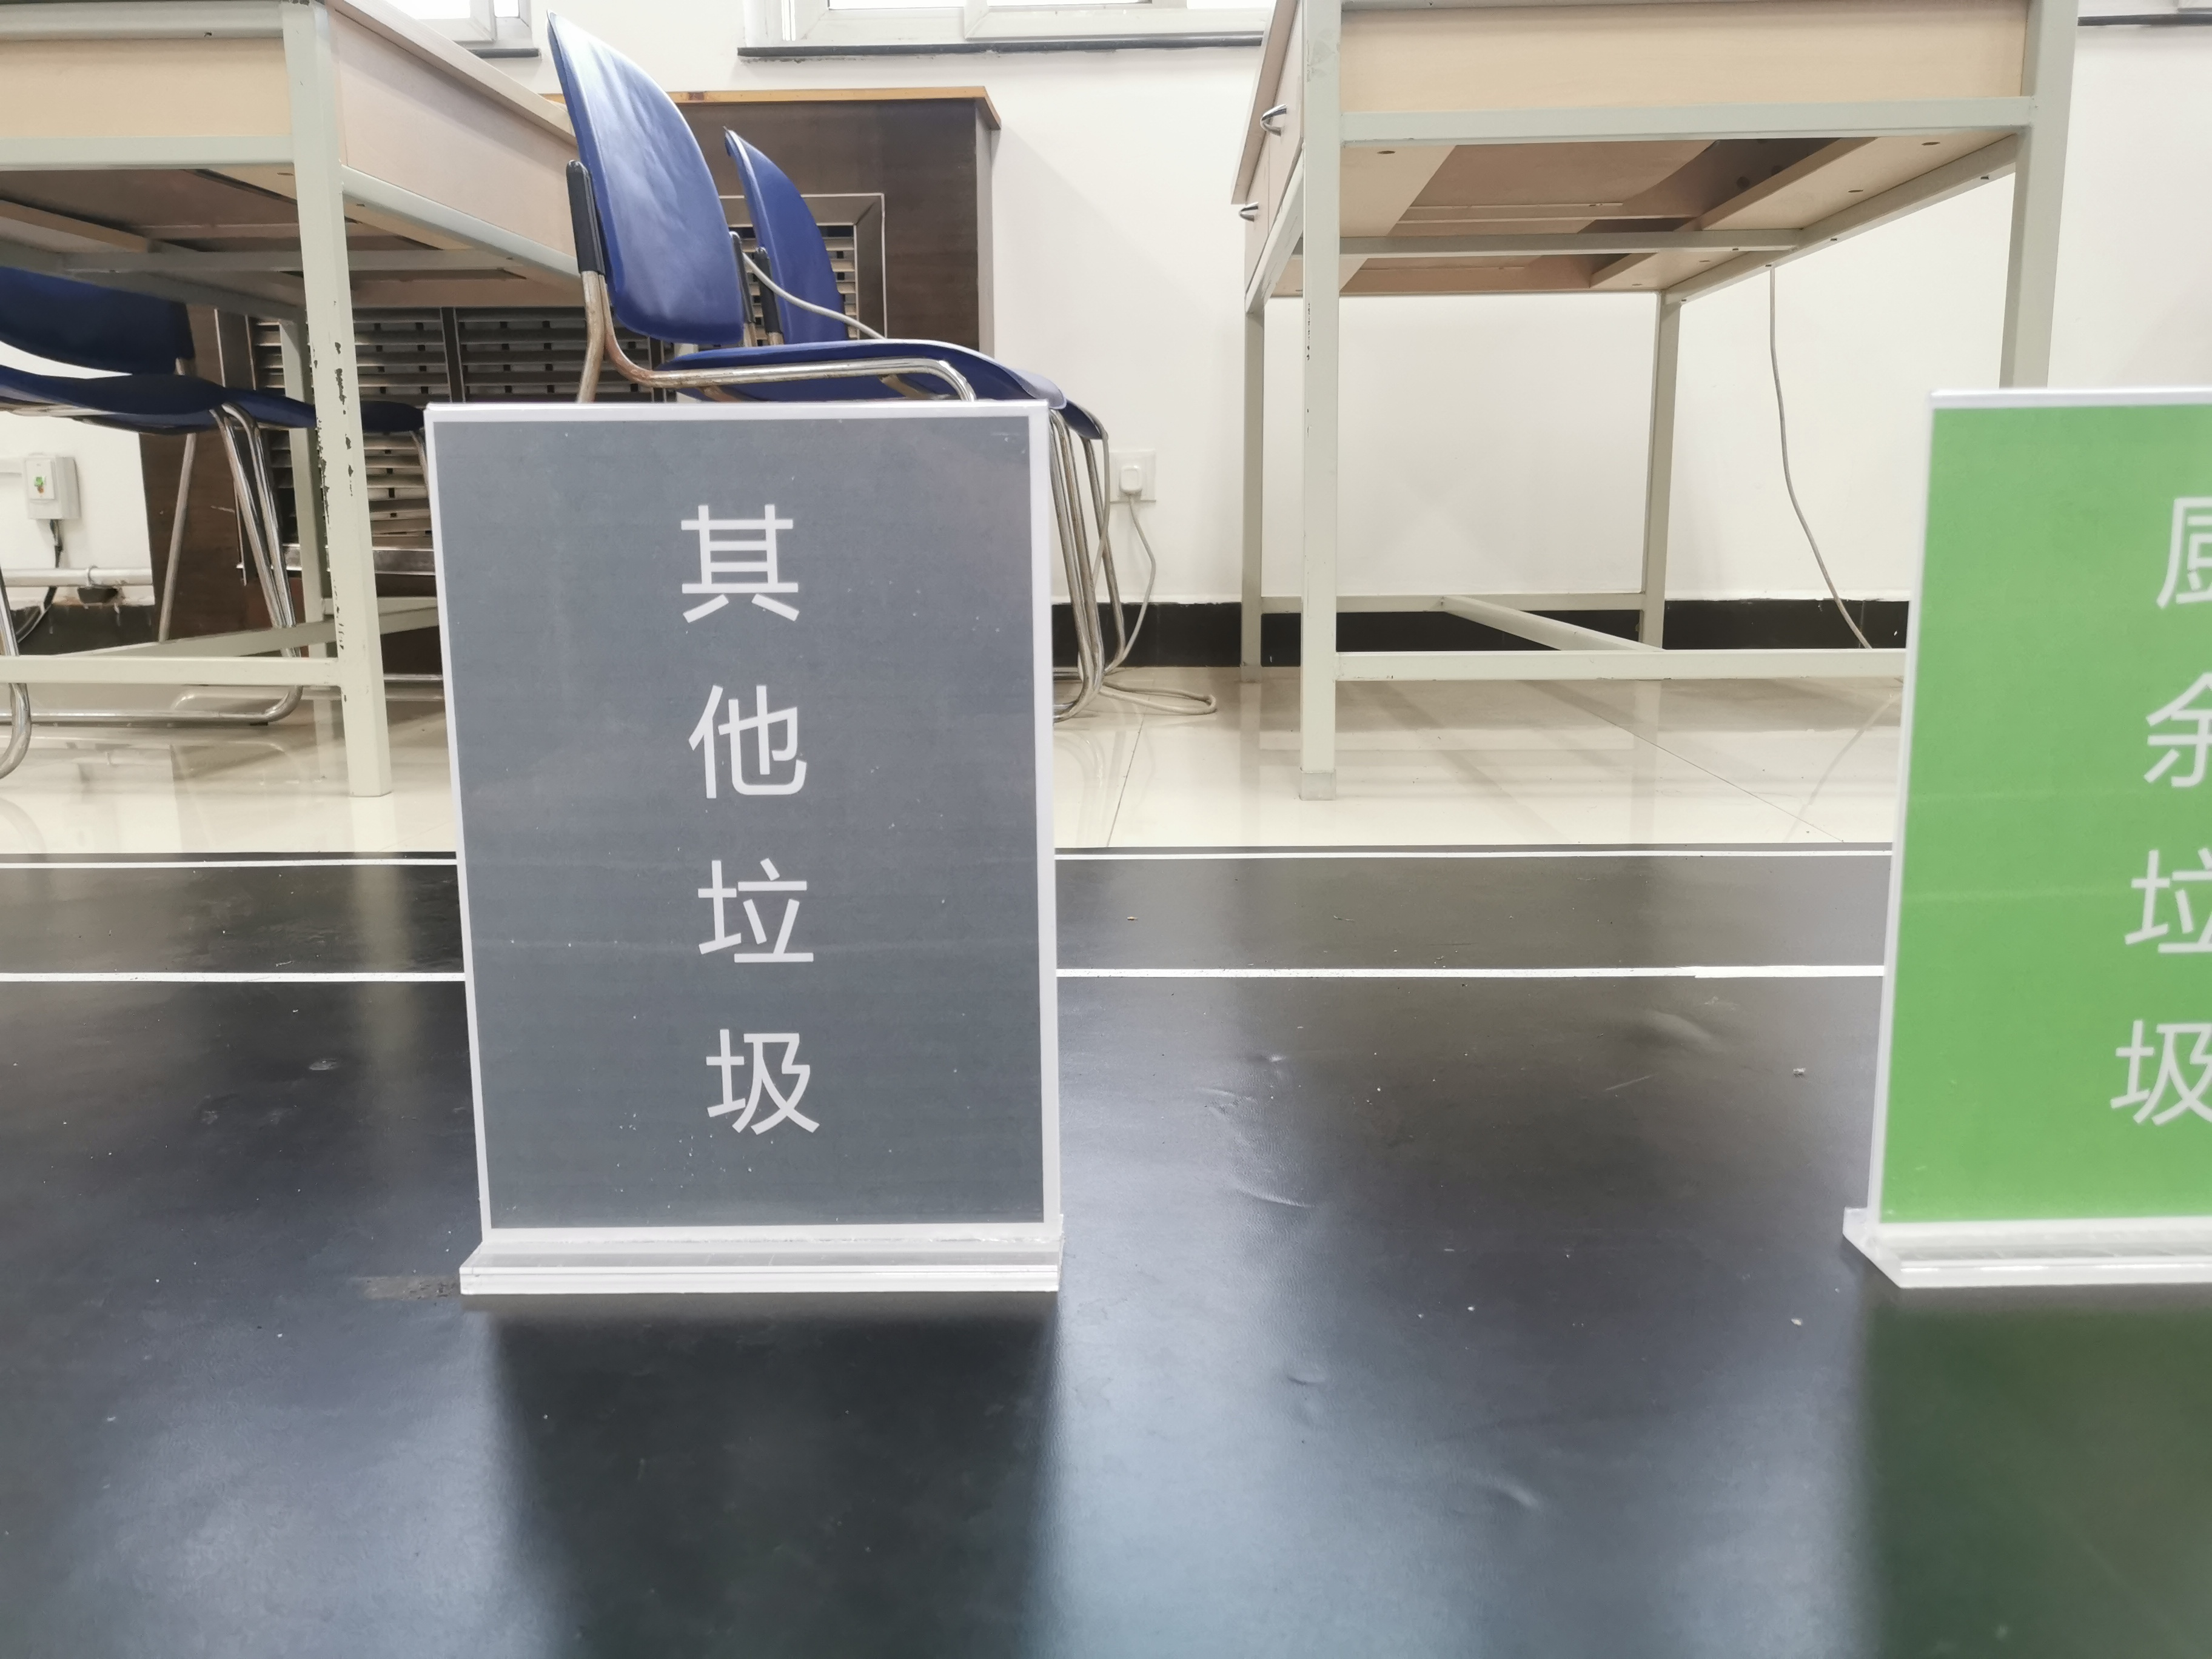black: (486, 423, 1040, 1220)
green: (1944, 415, 2212, 1208)
